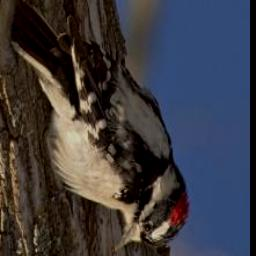Woodpecker: (10, 0, 191, 253)
